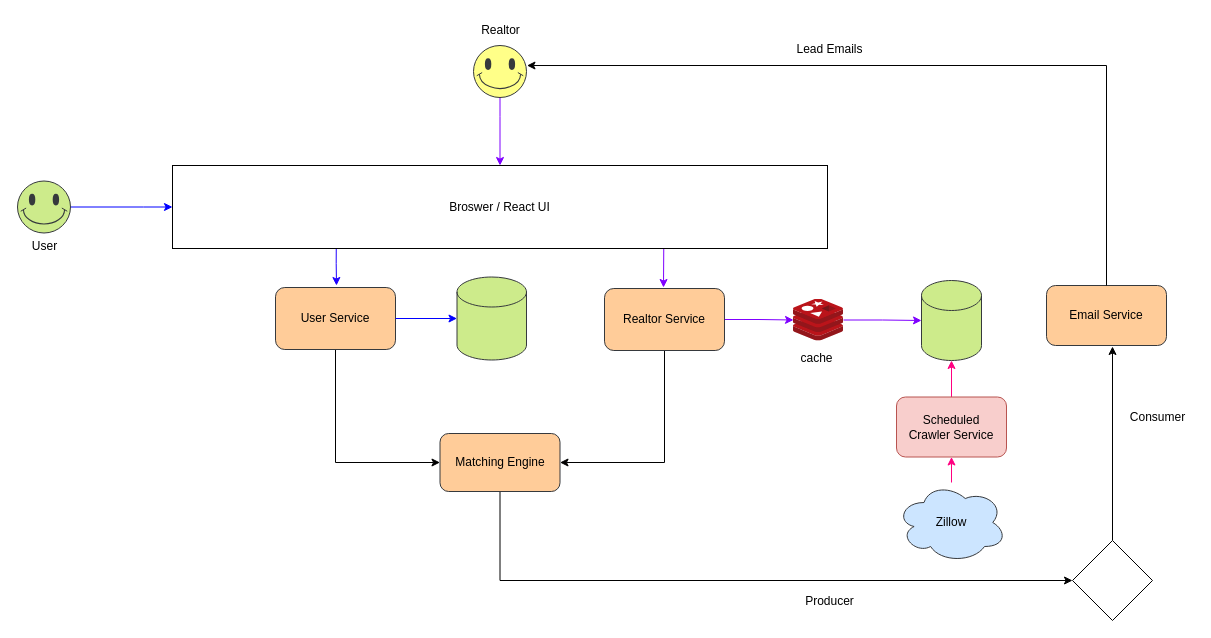
The diagram is 1211 pixels wide and 638 high, and some of its shapes have lost their labels. Each missing label, with the centre of its shape:
"Kafka" belongs at (1112,580).
"Realtor DB" belongs at (951,320).
"Users DB" belongs at (491,318).
